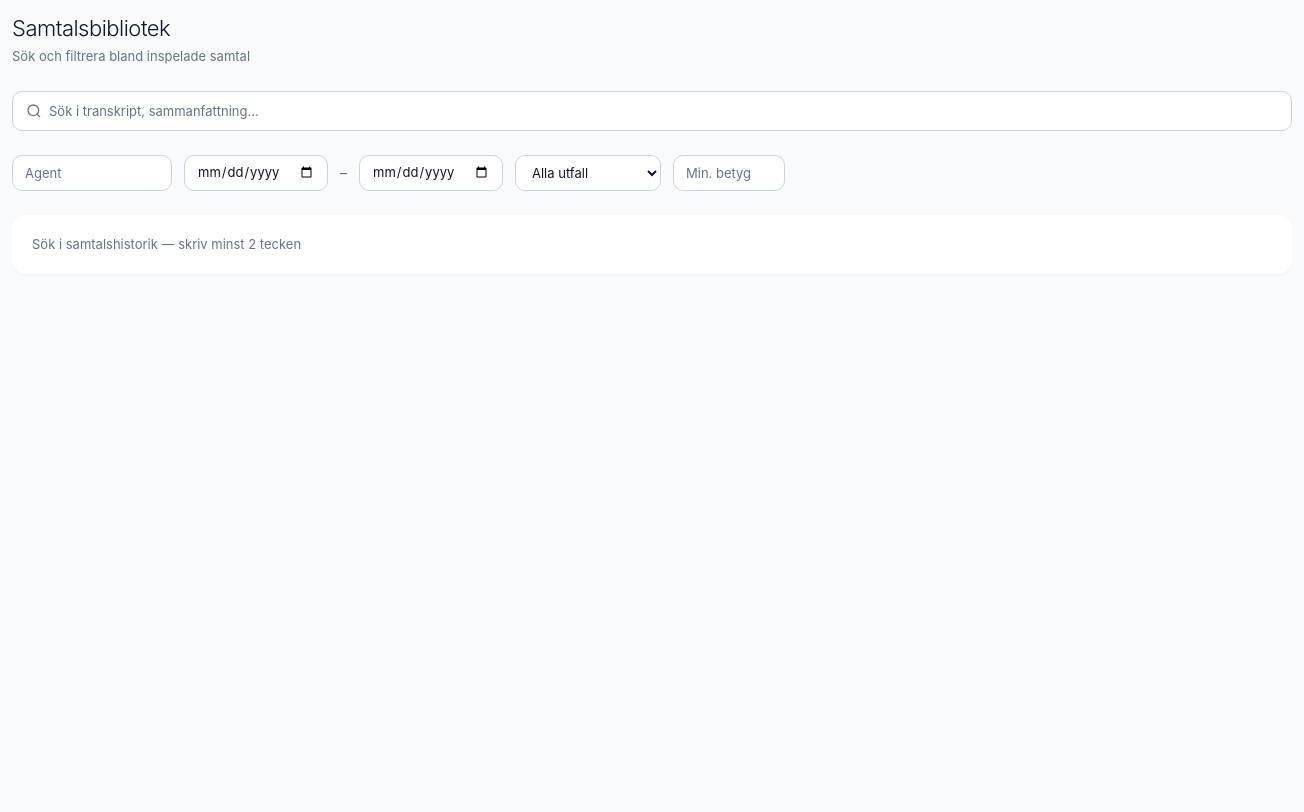
Test: CallLibraryPage › shows loading state while searching
Type "Saleflow" into the search field named "sök samtal" at (652, 110), box [12,90,1292,130]
Wait 350 ms
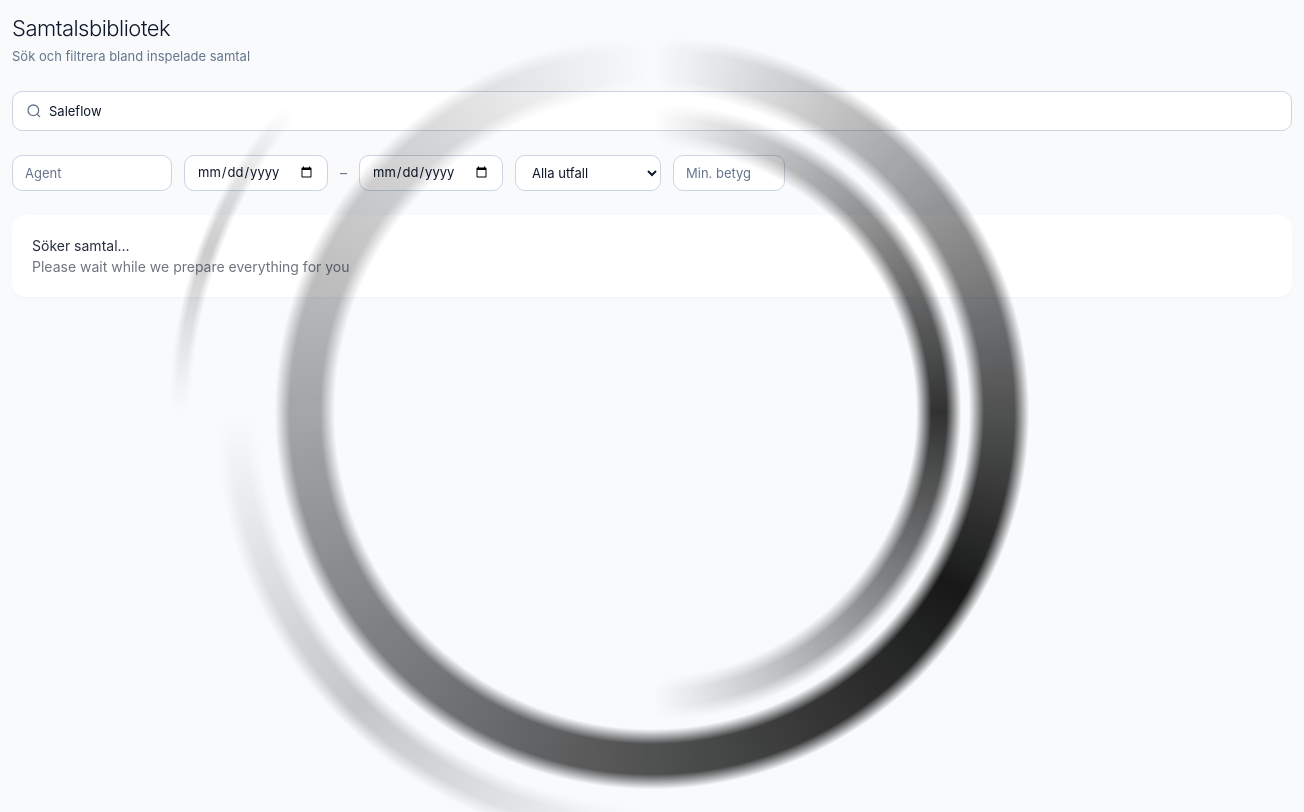
Expected: the text "Söker samtal..." is shown, [32,236,130,254]
